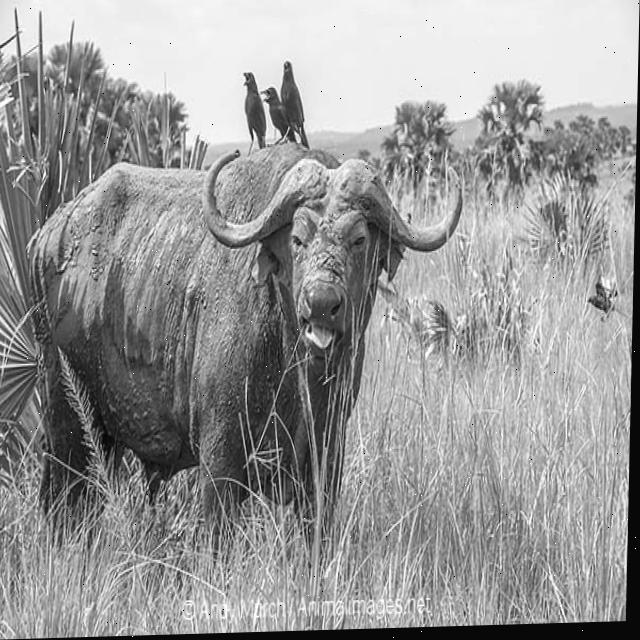Buffalo: (20, 133, 464, 570)
